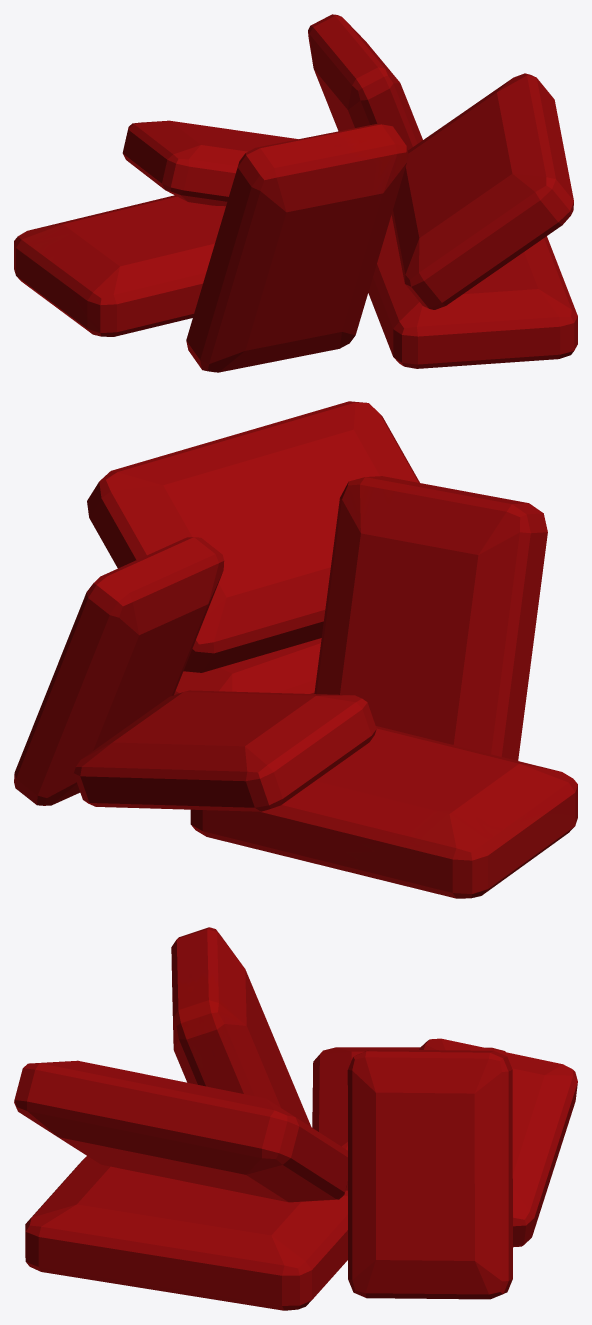
The model's file is ruby.fbx.
The picture shows the model from 3 angles, top to bottom: view 1: azimuth 30°, elevation 25°; view 2: azimuth 150°, elevation 25°; view 3: azimuth 270°, elevation 25°; orthographic projection. The views are drawn at different scales.
Visible parts, largest first — view 1: ruby.005, ruby.003, ruby, ruby.001, ruby.002, ruby.004; view 2: ruby.005, ruby.003, ruby, ruby.002, ruby.004, ruby.001; view 3: ruby.004, ruby.001, ruby.003, ruby.005, ruby.002, ruby.
Boxes of the visible parts, left/top/right/bottom form: ruby.005: left=186, top=124, right=408, bottom=372; ruby.003: left=391, top=73, right=573, bottom=309; ruby: left=14, top=195, right=225, bottom=336; ruby.001: left=368, top=215, right=577, bottom=368; ruby.002: left=122, top=120, right=298, bottom=206; ruby.004: left=308, top=14, right=422, bottom=150; ruby.005: left=314, top=476, right=547, bottom=760; ruby.003: left=87, top=401, right=419, bottom=672; ruby: left=190, top=726, right=577, bottom=898; ruby.002: left=73, top=690, right=376, bottom=811; ruby.004: left=14, top=537, right=224, bottom=805; ruby.001: left=174, top=638, right=321, bottom=694; ruby.004: left=347, top=1049, right=512, bottom=1299; ruby.001: left=25, top=1156, right=347, bottom=1310; ruby.003: left=14, top=1060, right=347, bottom=1202; ruby.005: left=171, top=927, right=311, bottom=1127; ruby.002: left=419, top=1038, right=577, bottom=1247; ruby: left=312, top=1047, right=505, bottom=1190.
Bounding box in the file's own units: 14.81 × 8.22 × 15.48.
